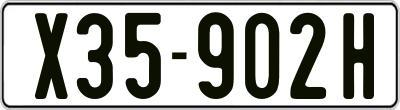0: (242, 10, 282, 98)
2: (289, 11, 330, 99)
3: (75, 11, 117, 98)
5: (123, 10, 164, 100)
9: (197, 10, 234, 103)
H: (341, 11, 377, 102)
X: (35, 12, 69, 104)
